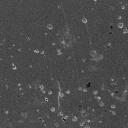corrosion: (116, 21, 124, 29), (39, 85, 46, 94), (46, 23, 54, 30), (56, 48, 63, 56), (92, 89, 99, 96), (80, 17, 88, 23), (11, 63, 17, 71), (71, 116, 79, 122), (110, 103, 116, 111), (33, 48, 40, 54), (57, 92, 64, 98), (65, 88, 71, 95), (50, 106, 56, 112), (98, 101, 104, 107), (16, 82, 22, 87), (86, 118, 91, 124), (44, 98, 49, 102), (121, 5, 125, 10)
